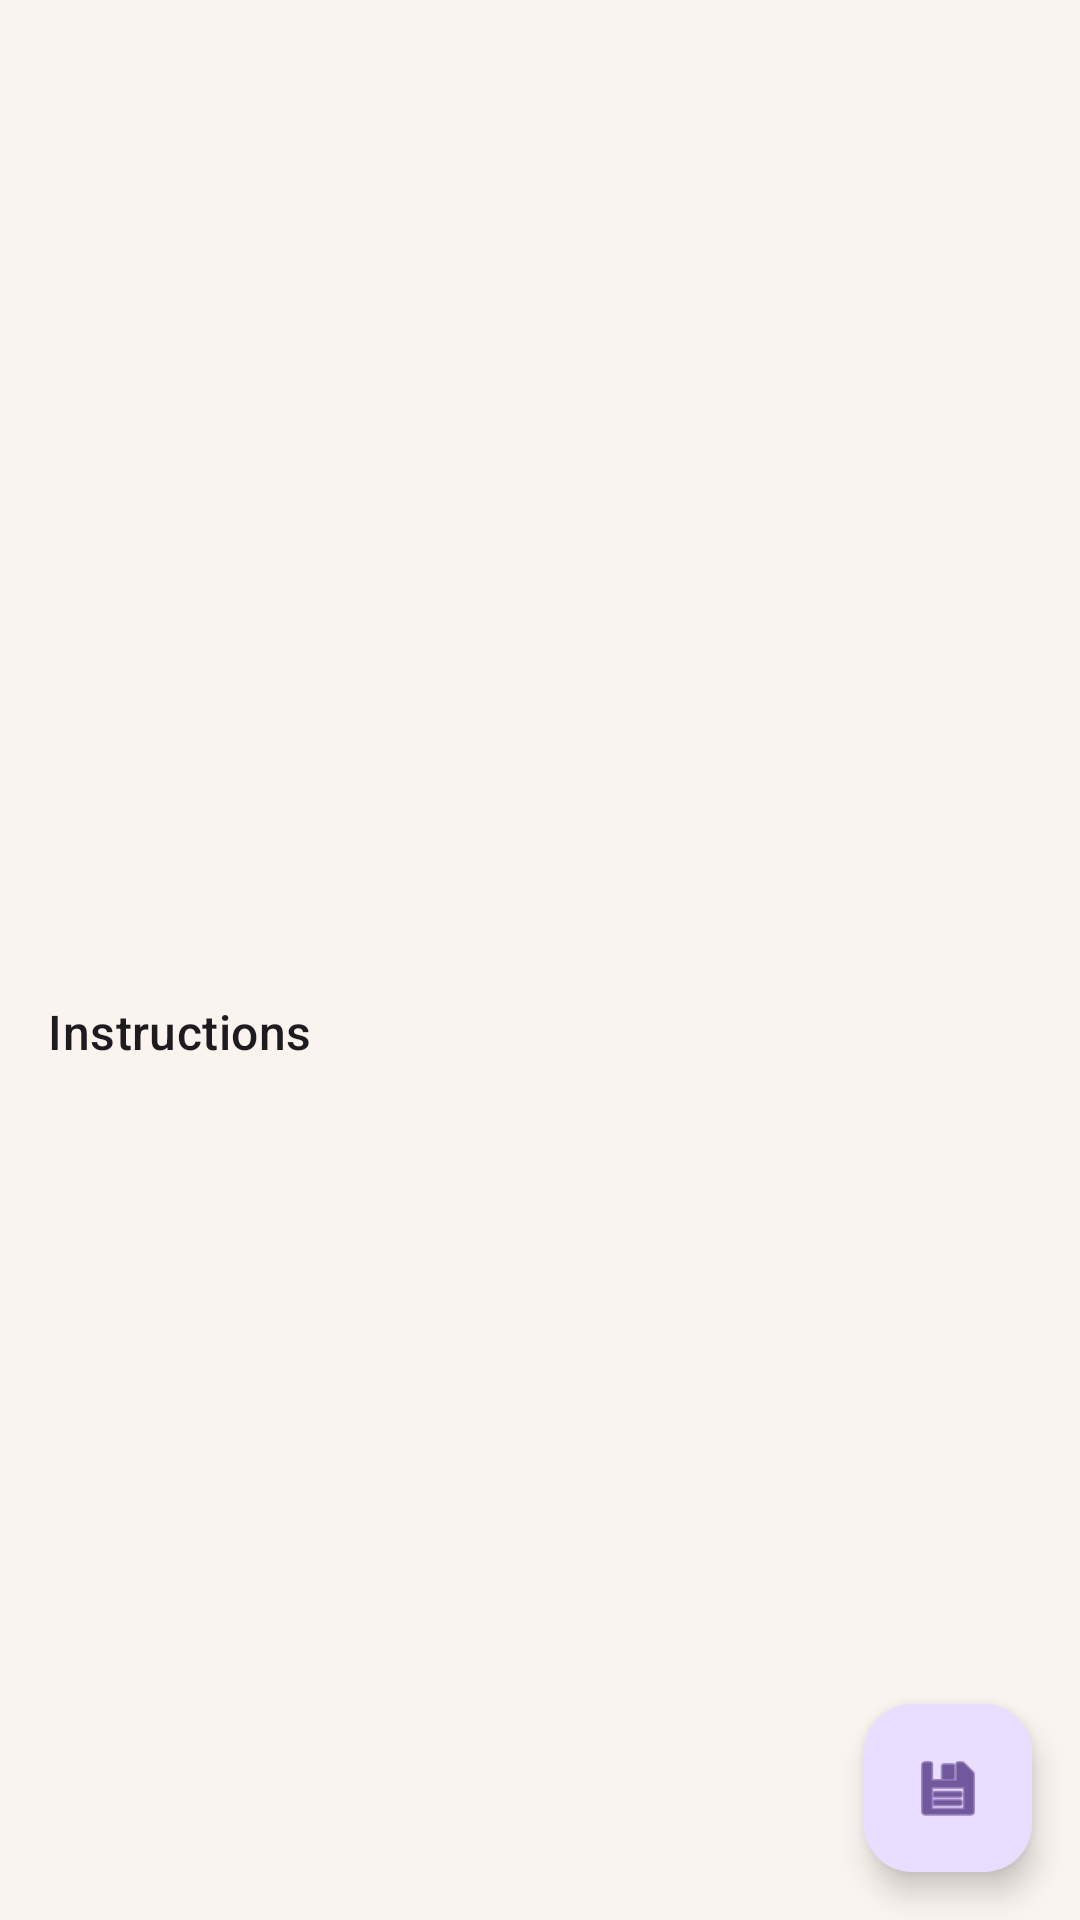

Point at icon controls on the screen. Image size 1080*1920, points as (x=x, y=y).
Save Recipe: (x=948, y=1788)
